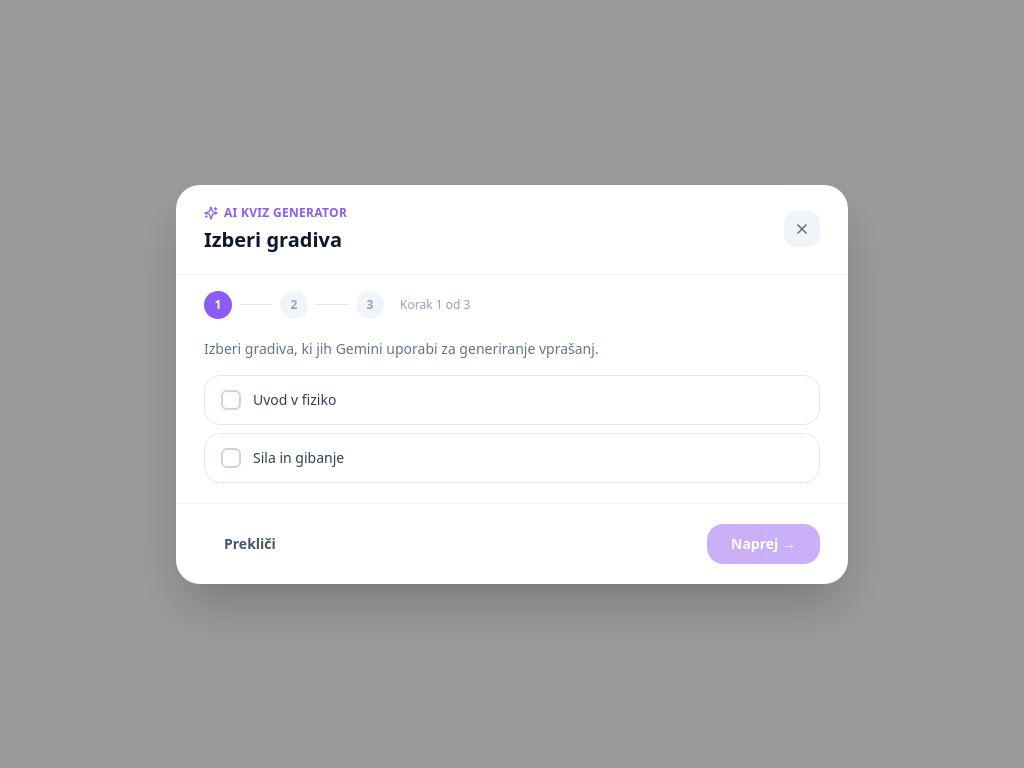
Test: ProfessorQuizModal — question editing in preview › removes deleted question from list
Click the button "Uvod v fiziko". click: (295,399)
box: [204,374,820,424]
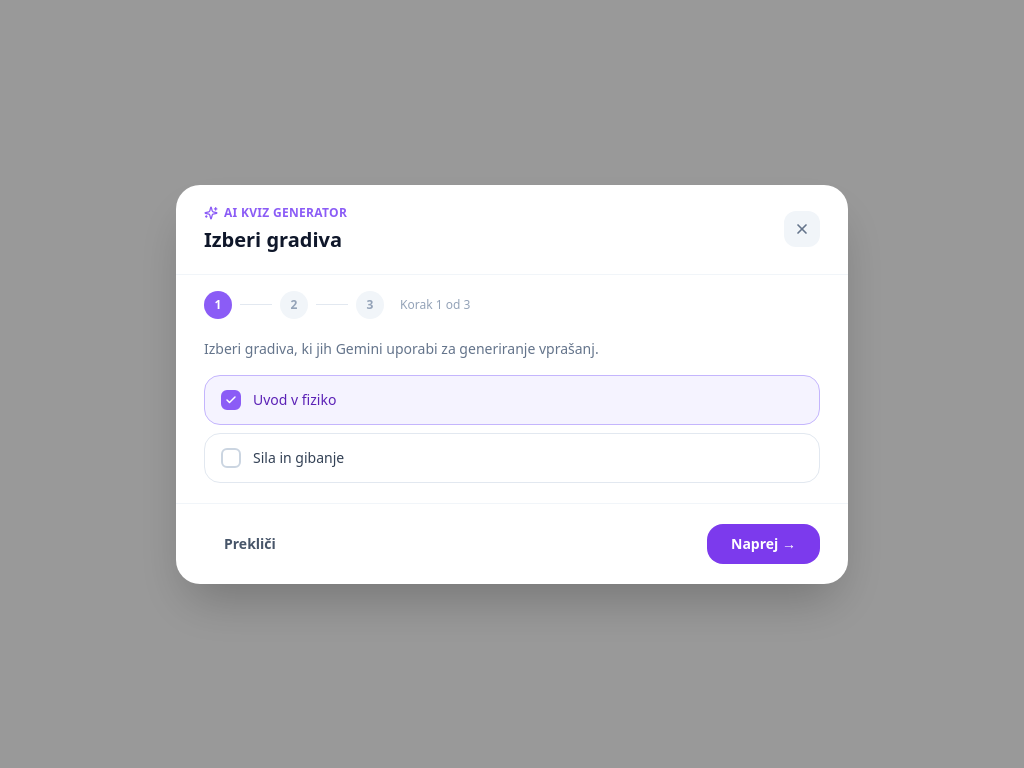
Click the button "Naprej →". click: (764,544)
box: [707,524,820,564]
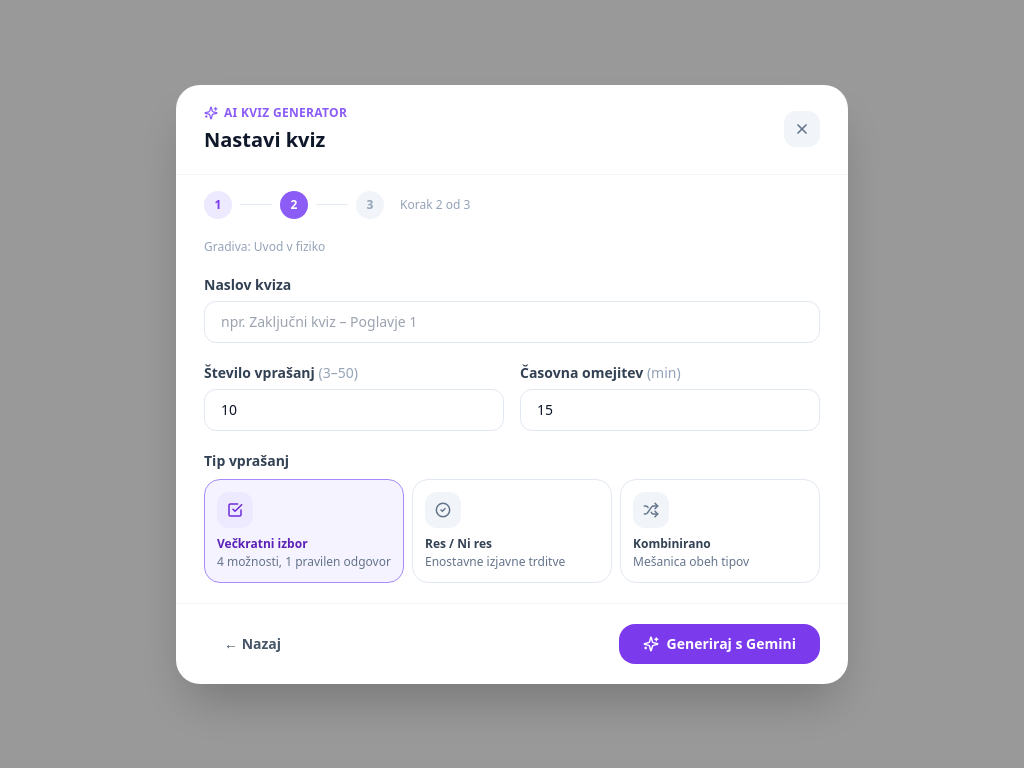
Type "Kviz iz fizike" into the field with placeholder "npr. Zaključni kviz – Poglavje 1". click: (512,322)
box: [204,300,820,342]
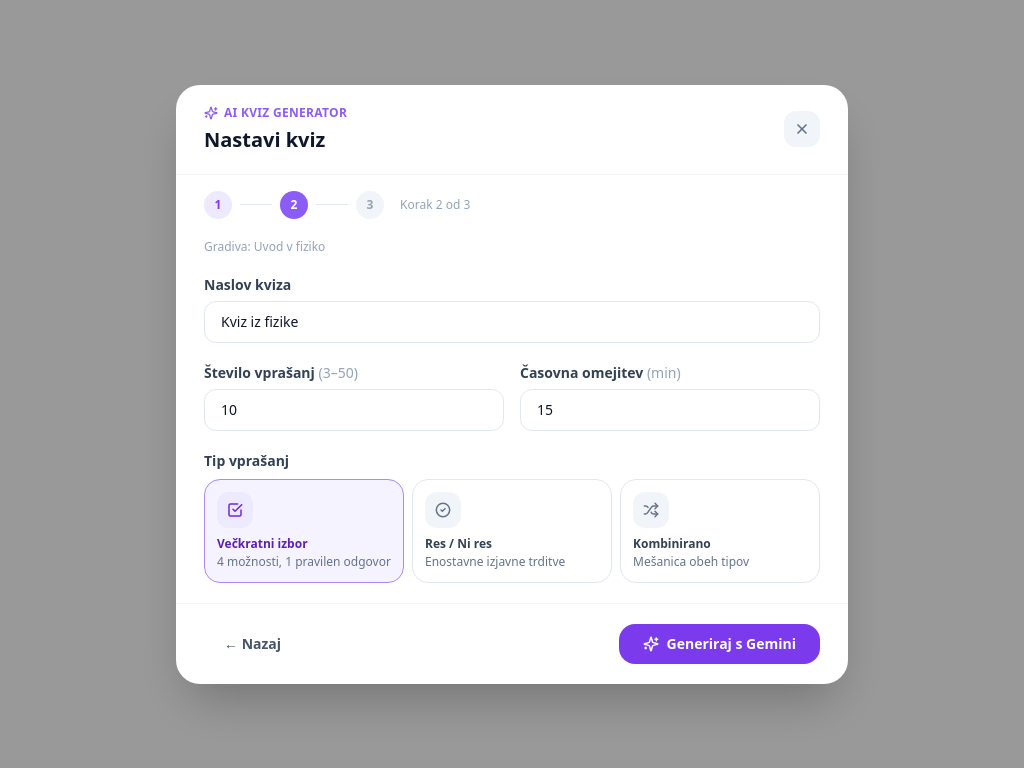
Click the button "Generiraj s Gemini". click: (719,644)
box: [618,624,820,664]
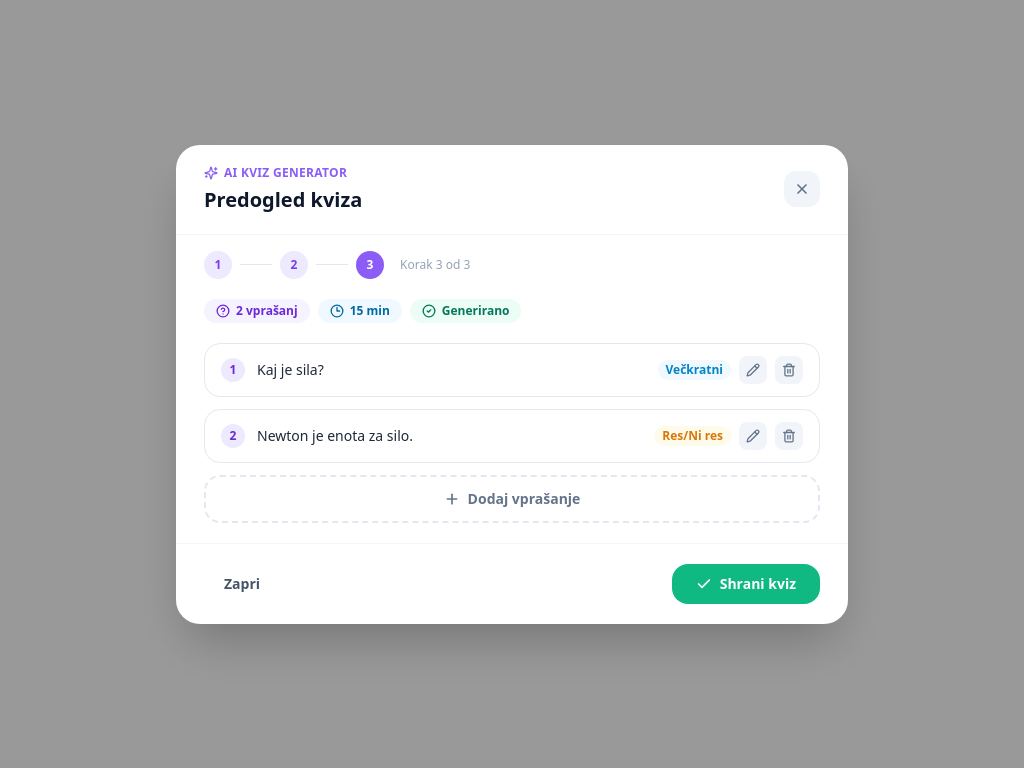
Expected: the heading "Predogled kviza" is shown, [204,186,362,214]
Click the button titled "Izbriši vprašanje" next to "Večkratni". click: (789,370)
box: [775,356,803,384]
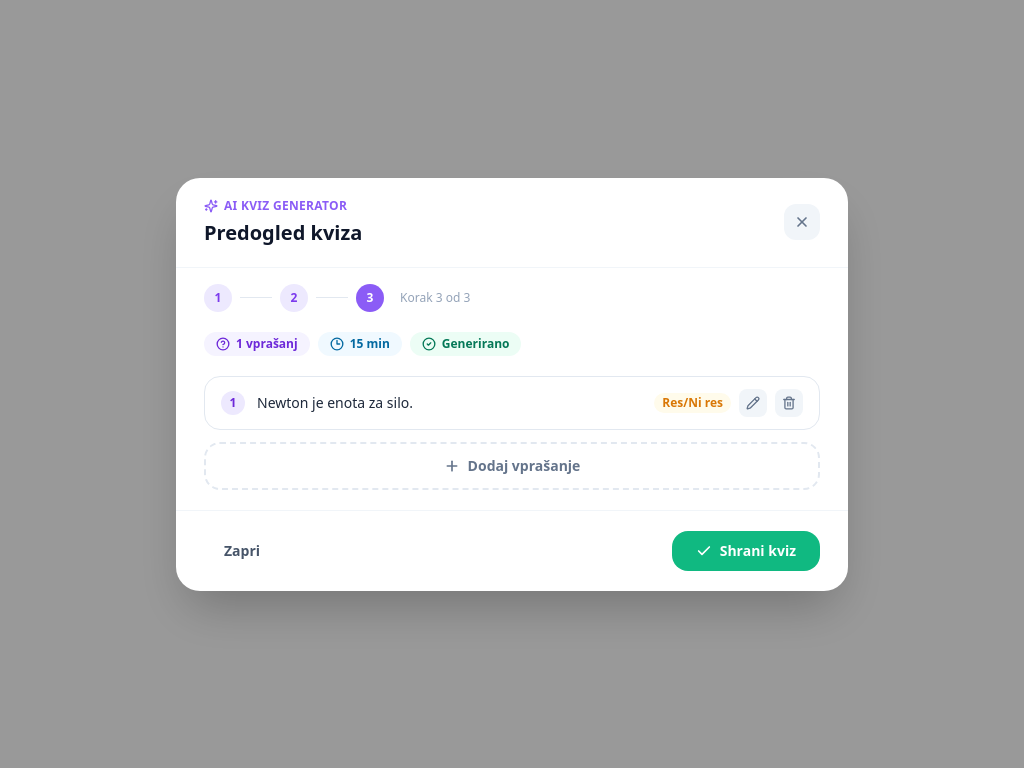
Expected: the text "Newton je enota za silo." is shown, [257,392,413,412]
Expected: the button "Kaj je sila?" is gone
